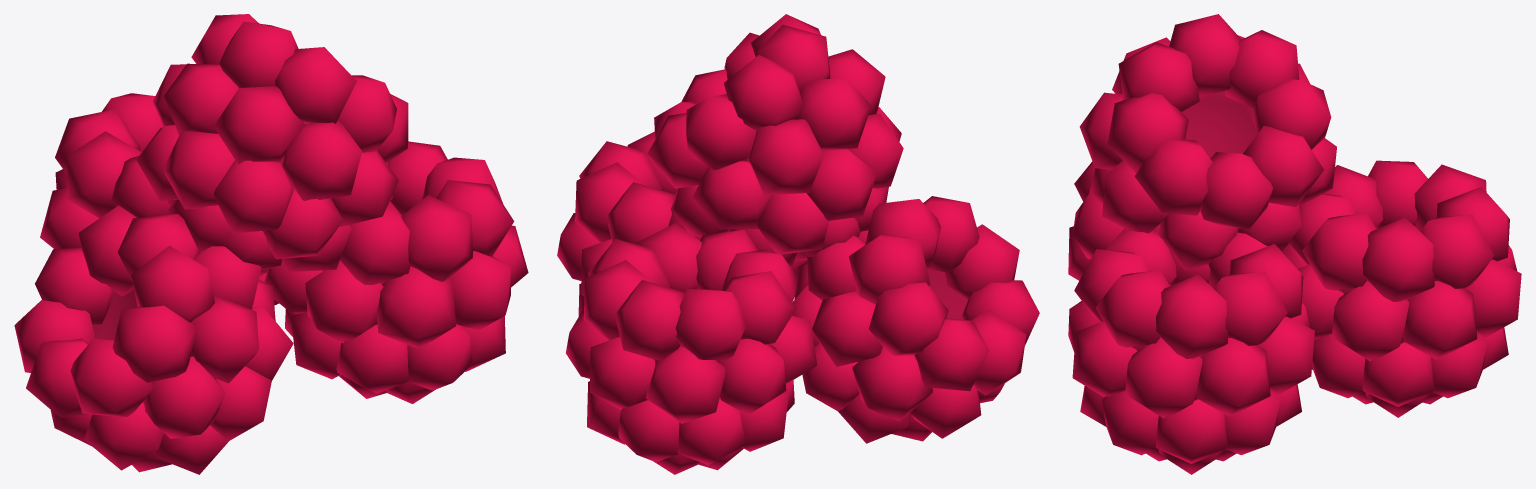
File: raspberry.glb
The picture shows the model from 3 angles, left to right: view 1: azimuth 30°, elevation 25°; view 2: azimuth 150°, elevation 25°; view 3: azimuth 270°, elevation 25°; orthographic projection. The views are drawn at different scales.
Parts seen in each view (by area): view 1: Cube.004; view 2: Cube.004; view 3: Cube.004.
Part boxes in pixels (x1=…): Cube.004: x1=14, y1=14, x2=528, y2=474; Cube.004: x1=557, y1=14, x2=1039, y2=474; Cube.004: x1=1068, y1=14, x2=1521, y2=474.
Size of the model in its own units: 2.72 by 2.27 by 2.34.
